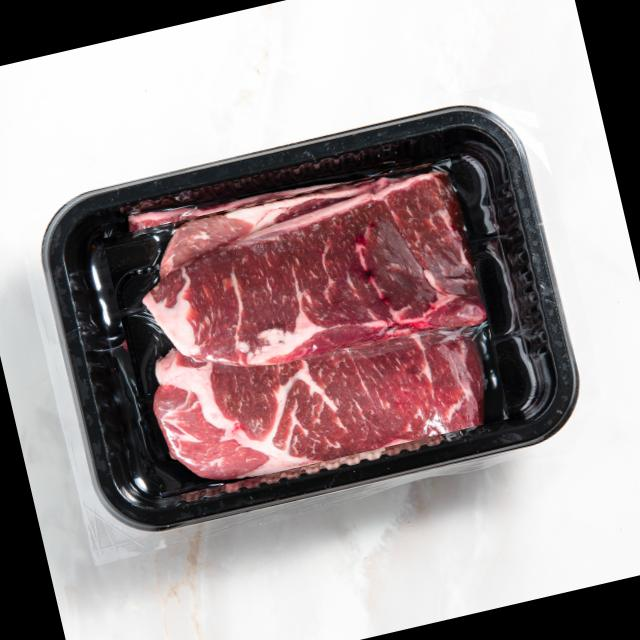beef: (102, 156, 511, 498)
